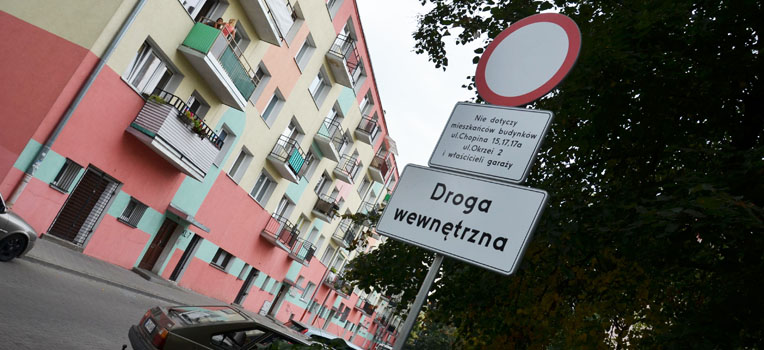no_entry_sign: (476, 12, 583, 107)
